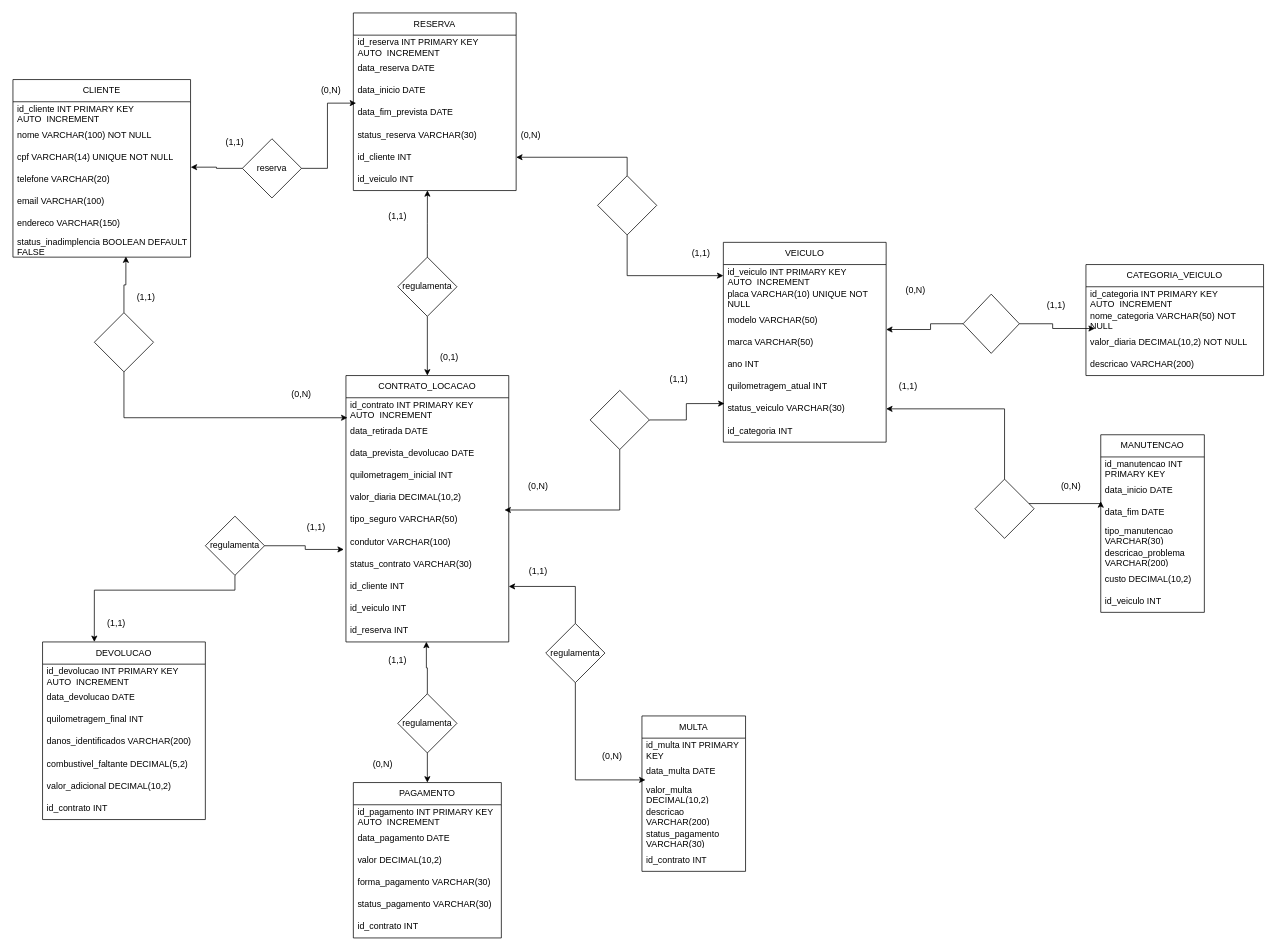
The diagram is 1277 pixels wide and 951 high, and some of its shapes have lost their labels. Here are the shapes that lost their labels. From the top down, the centre of each, then its label:
At [627,205]: "reservado".
At [124,342]: "loca".
At [990,323]: "categoriza".
At [619,420]: "define".
At [1004,508]: "faz".
